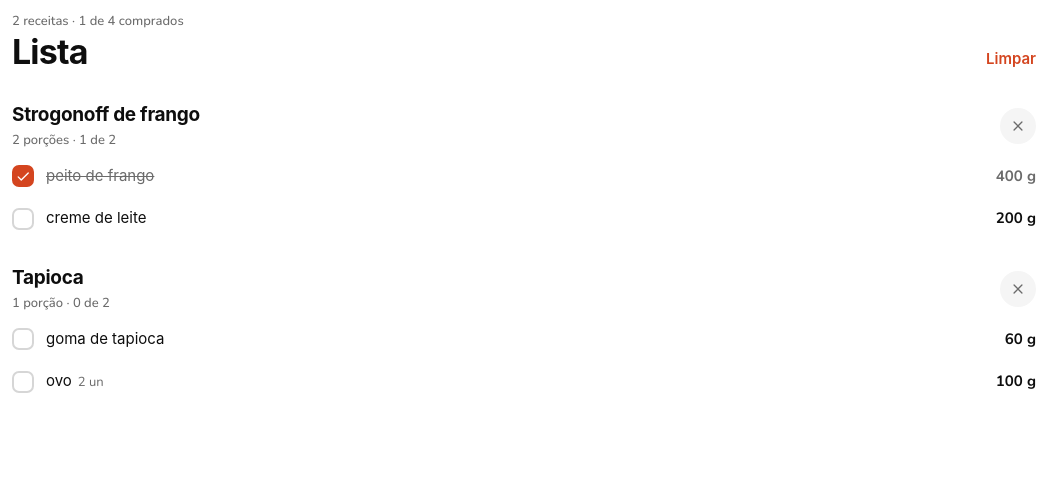
Test case: ListaView › falha ao marcar desfaz a marca e mostra alerta
Click the checkbox named "ovo, 100 g" at (1016, 381), box 12,360 -> 1036,403
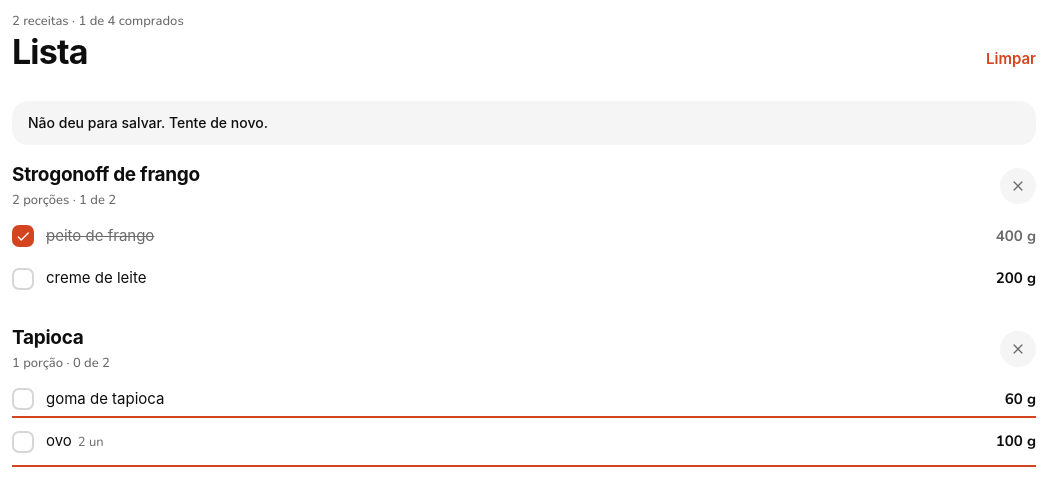
Expected: the message reads "Não deu para salvar. Tente de novo.", 28,114 -> 268,131
